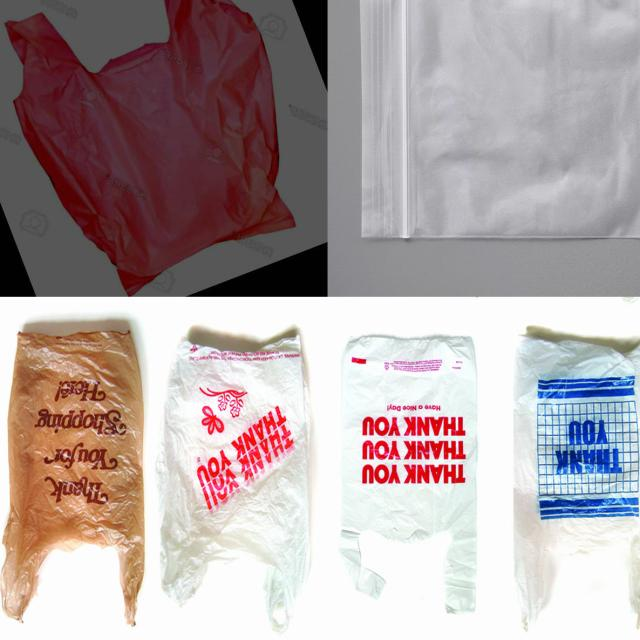plastik: (6, 0, 295, 295), (360, 0, 640, 239), (156, 336, 309, 633), (1, 332, 144, 625), (340, 337, 477, 614), (514, 337, 640, 629)
